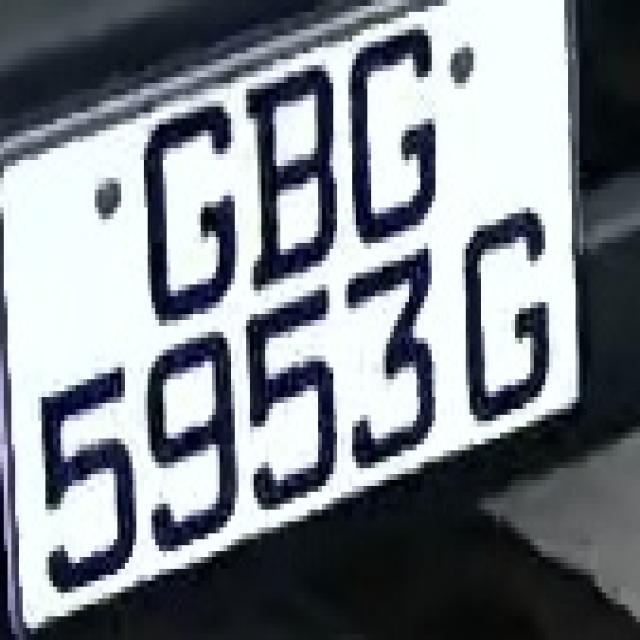3: (348, 243, 451, 468)
5: (235, 290, 352, 516), (30, 368, 144, 592)
9: (136, 350, 242, 551)
B: (242, 54, 341, 278)
G: (132, 101, 242, 320), (344, 24, 446, 243), (458, 202, 549, 426)
